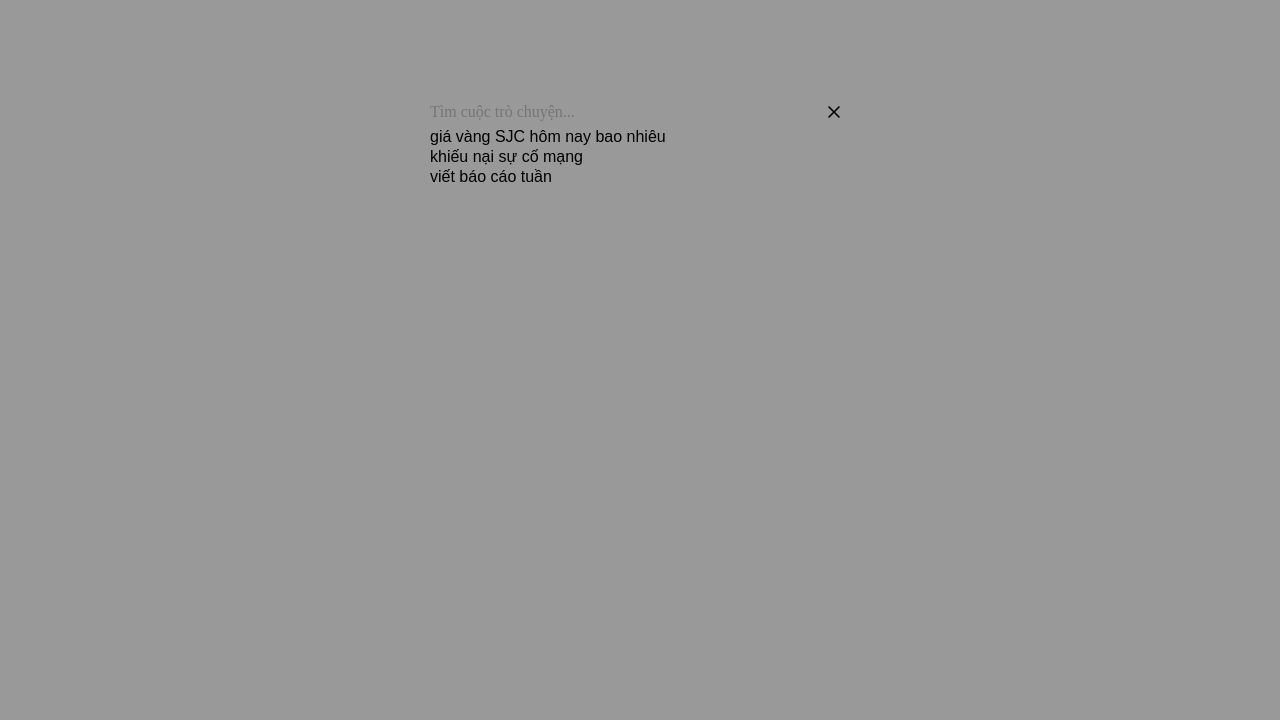
it: SearchModal › debounce hết hạn, không khớp session nào -> thông báo rỗng
In the field with placeholder "Tìm cuộc trò chuyện...": (624, 112) [430, 103, 818, 121], type "không tồn tại đâu"
Wait 350 ms
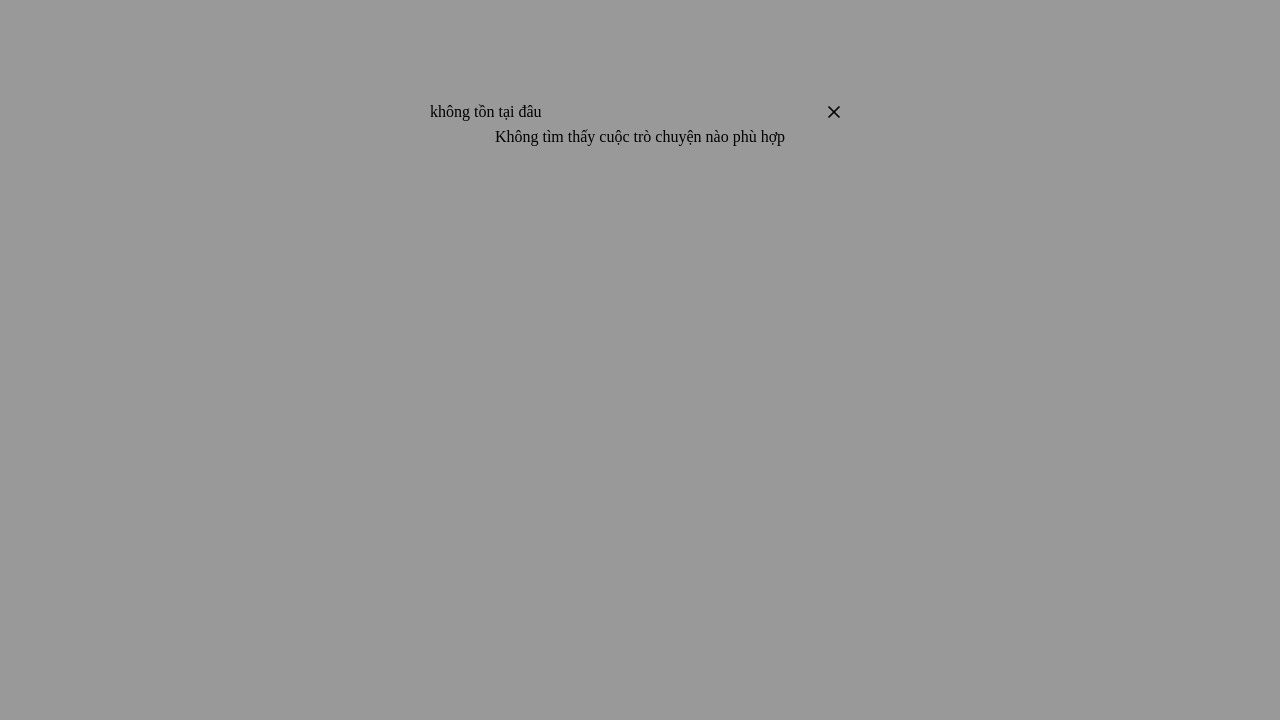
Expected: the text "Không tìm thấy cuộc trò chuyện nào phù hợp" is shown, [495, 128, 785, 145]
